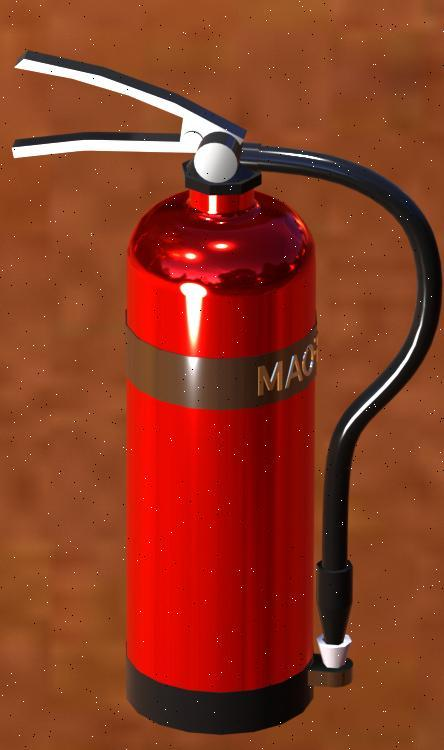Fire Extinguisher: (14, 16, 444, 740)
